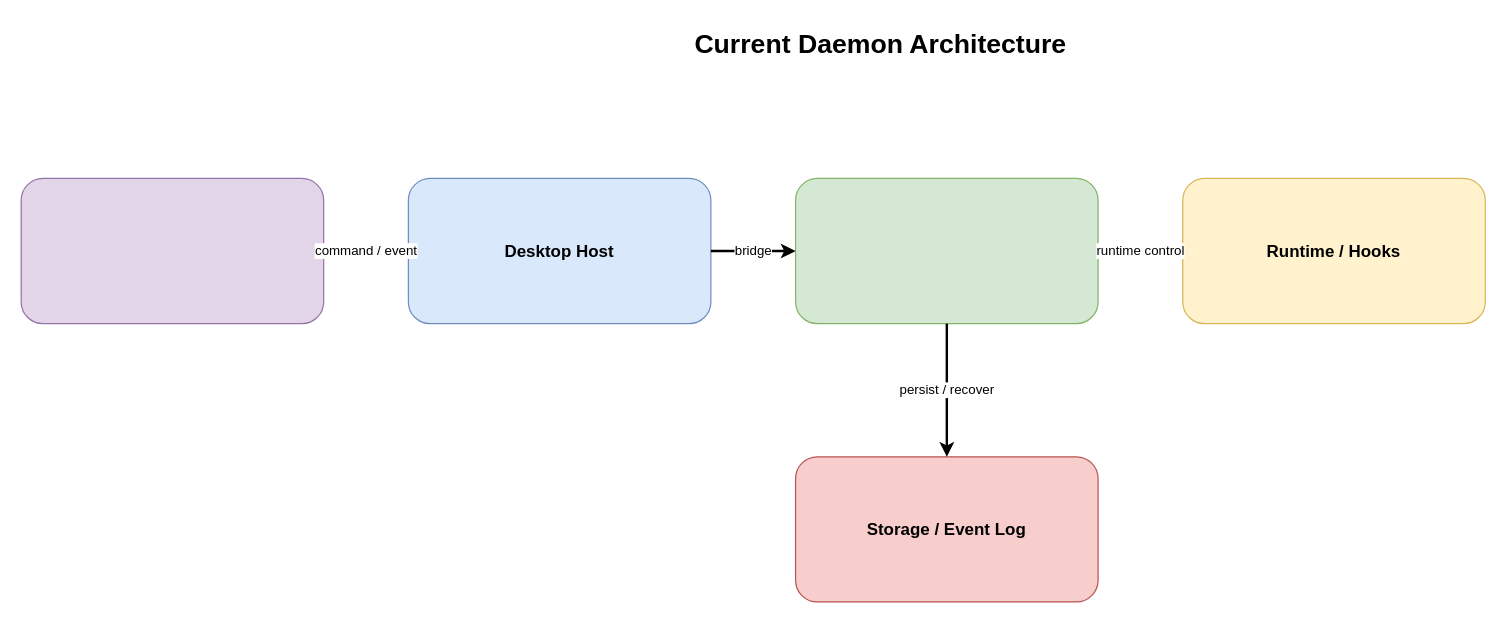
Some shapes in this 1506 by 623 pixel diagram are drawn without their labels. The box of each missing label's shape, as (x1, y1, x2, y2) in pixels:
Backend / Daemon: (794, 177, 1098, 324)
Frontend: (20, 177, 324, 324)
